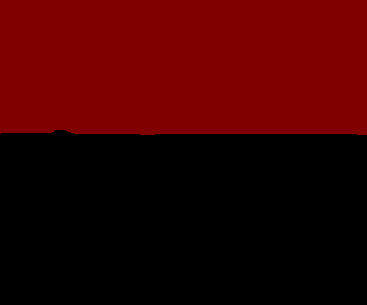Sky: (1, 1, 366, 135)
